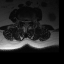CCS_normal: (25, 19, 27, 26)
LFS_normal: (29, 18, 31, 23)
LLS_normal: (27, 19, 29, 24)
RFS_normal: (21, 19, 23, 24)
RLS_normal: (23, 19, 25, 24)
